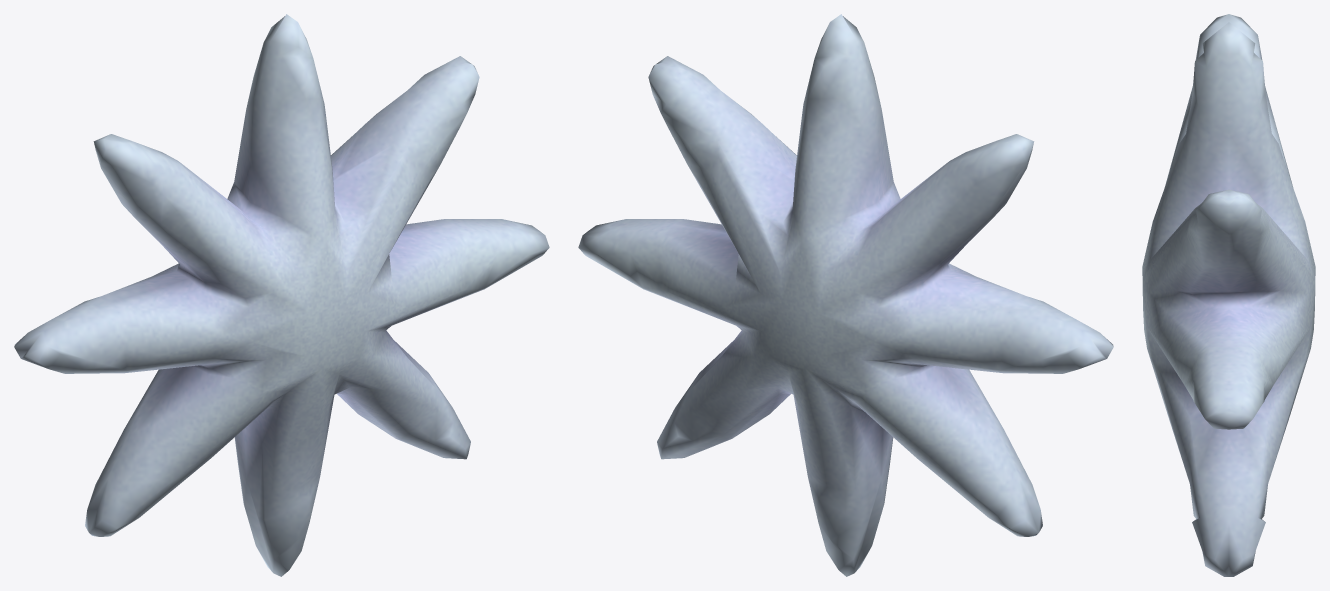
The model's file is PartyBalloons02_2.FBX.
3 views of the same model, side by side, from view 1: azimuth 30°, elevation 25°; view 2: azimuth 150°, elevation 25°; view 3: azimuth 270°, elevation 25° (orthographic). The views are drawn at different scales.
Visible parts, largest first — view 1: PartyBalloons02_2; view 2: PartyBalloons02_2; view 3: PartyBalloons02_2.
Boxes of the visible parts, left/top/right/bottom form: PartyBalloons02_2: left=14, top=14, right=549, bottom=576; PartyBalloons02_2: left=578, top=14, right=1113, bottom=576; PartyBalloons02_2: left=1142, top=14, right=1315, bottom=576.
Size of what is drawn, in the model's own units: 0.3805 by 0.3922 by 0.1132.
